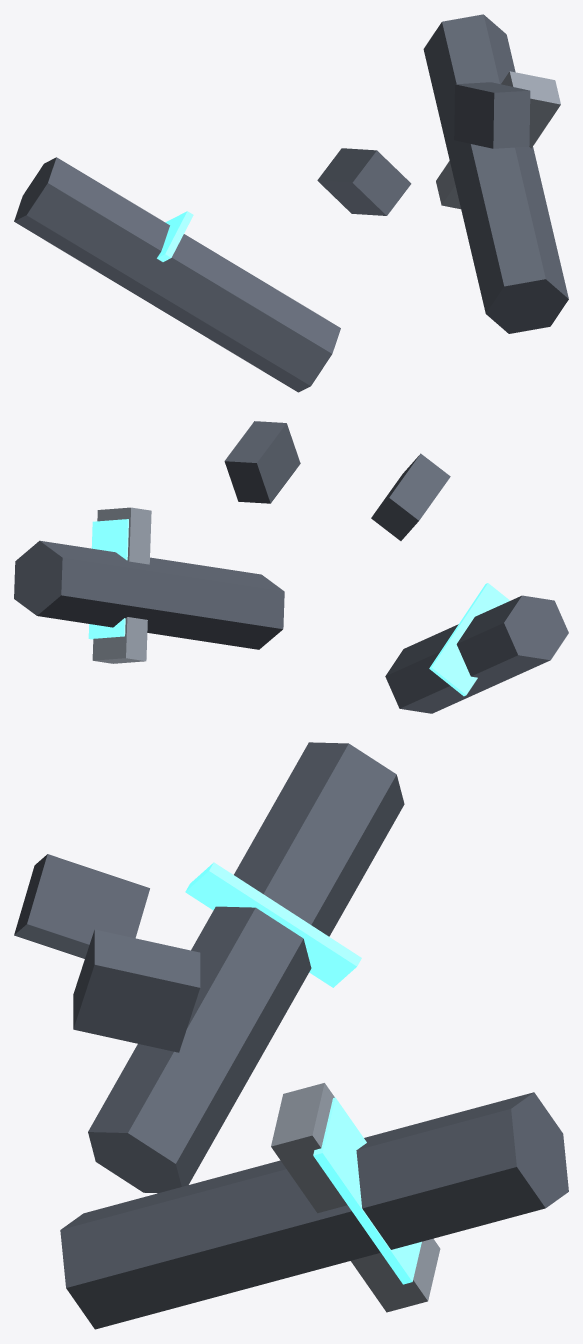
Rendered from viewmodel_arms.glb.
3 views of the same model, one above another, from view 1: azimuth 30°, elevation 25°; view 2: azimuth 150°, elevation 25°; view 3: azimuth 270°, elevation 25° (orthographic). The views are drawn at different scales.
Visible parts, largest first — view 1: Viewmodel_Arms; view 2: Viewmodel_Arms; view 3: Viewmodel_Arms.
Part boxes in pixels (bbox=[...]): Viewmodel_Arms: bbox=[14, 14, 568, 392]; Viewmodel_Arms: bbox=[14, 421, 568, 713]; Viewmodel_Arms: bbox=[14, 742, 568, 1329].
Bounding box in the file's own units: 0.6738 × 0.3149 × 0.4058.
